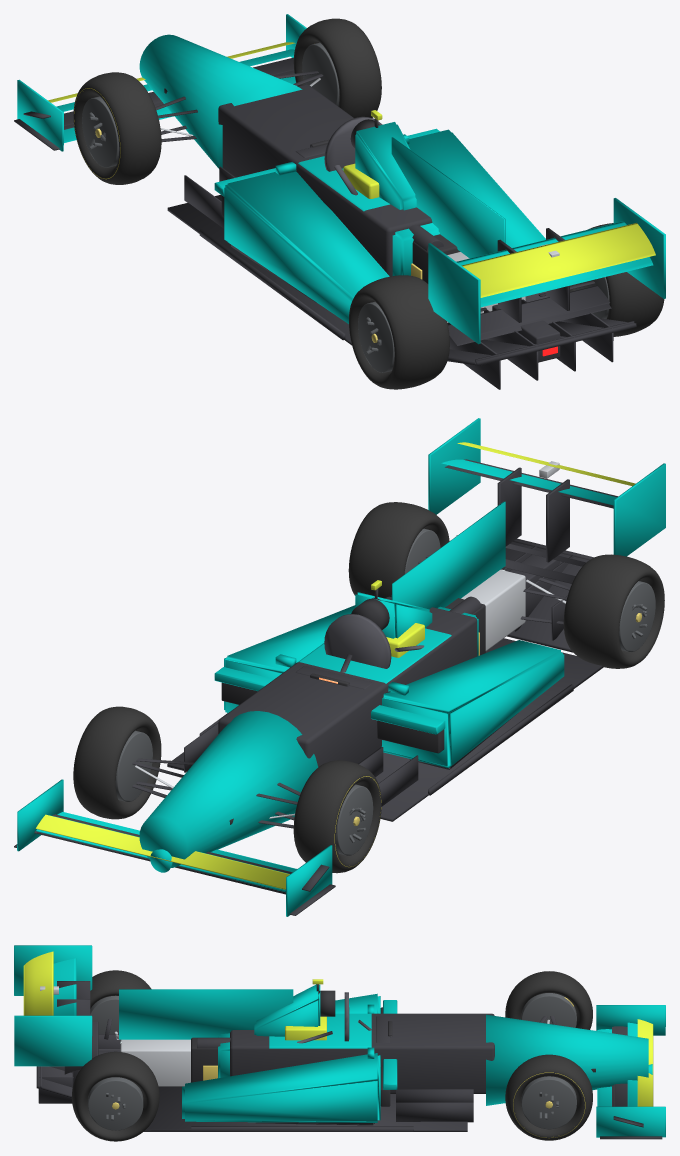
Rendered from Car_F1_Complete.glb.
The picture shows the model from 3 angles, top to bottom: view 1: azimuth 30°, elevation 25°; view 2: azimuth 150°, elevation 25°; view 3: azimuth 270°, elevation 25°; orthographic projection. The views are drawn at different scales.
Parts seen in each view (by area): view 1: F1_RearWing_CascadeDRS, F1_Sidepod_L_Downwash, F1_Monocoque_T800, F1_Monocoque_M55J, F1_Wheel_RL, F1_Nose_Wide, F1_Wheel_FL, F1_Wheel_FR, F1_Diffuser_QuadStrake, F1_Sidepod_R_Downwash, F1_FrontWing_Outwash4, F1_Floor_QuadFence (+5 smaller); view 2: F1_Nose_Wide, F1_Sidepod_L_Downwash, F1_RearWing_CascadeDRS, F1_Monocoque_T800, F1_Monocoque_M55J, F1_Wheel_RL, F1_FrontWing_Outwash4, F1_Wheel_FR, F1_Wheel_FL, F1_Floor_QuadFence, F1_Wheel_RR, F1_Sidepod_R_Downwash (+7 smaller); view 3: F1_Monocoque_T800, F1_Sidepod_R_Downwash, F1_Monocoque_M55J, F1_RearWing_CascadeDRS, F1_Nose_Wide, F1_Wheel_RR, F1_Wheel_FR, F1_FrontWing_Outwash4, F1_Floor_QuadFence, F1_Wheel_FL, F1_Gearbox_Carbon8, F1_Wheel_RL (+5 smaller).
Part boxes in pixels (left/top/right/bottom): F1_RearWing_CascadeDRS: left=428, top=198, right=665, bottom=345; F1_Sidepod_L_Downwash: left=214, top=168, right=389, bottom=323; F1_Monocoque_T800: left=275, top=110, right=505, bottom=275; F1_Monocoque_M55J: left=218, top=84, right=432, bottom=276; F1_Wheel_RL: left=349, top=275, right=449, bottom=389; F1_Nose_Wide: left=139, top=34, right=302, bottom=168; F1_Wheel_FL: left=73, top=72, right=161, bottom=184; F1_Wheel_FR: left=293, top=18, right=381, bottom=117; F1_Diffuser_QuadStrake: left=447, top=299, right=636, bottom=389; F1_Sidepod_R_Downwash: left=407, top=128, right=545, bottom=247; F1_FrontWing_Outwash4: left=14, top=14, right=306, bottom=151; F1_Floor_QuadFence: left=168, top=166, right=547, bottom=341; F1_Nose_Wide: left=139, top=711, right=318, bottom=867; F1_Sidepod_L_Downwash: left=371, top=640, right=564, bottom=769; F1_RearWing_CascadeDRS: left=428, top=418, right=665, bottom=583; F1_Monocoque_T800: left=275, top=501, right=505, bottom=695; F1_Monocoque_M55J: left=218, top=596, right=477, bottom=766; F1_Wheel_RL: left=563, top=554, right=664, bottom=668; F1_FrontWing_Outwash4: left=14, top=779, right=335, bottom=916; F1_Wheel_FR: left=73, top=706, right=161, bottom=819; F1_Wheel_FL: left=293, top=760, right=381, bottom=873; F1_Floor_QuadFence: left=167, top=638, right=601, bottom=821; F1_Wheel_RR: left=348, top=502, right=449, bottom=598; F1_Sidepod_R_Downwash: left=214, top=605, right=355, bottom=713; F1_Monocoque_T800: left=119, top=979, right=389, bottom=1078; F1_Sidepod_R_Downwash: left=182, top=1053, right=397, bottom=1125; F1_Monocoque_M55J: left=230, top=1013, right=494, bottom=1093; F1_RearWing_CascadeDRS: left=14, top=945, right=98, bottom=1085; F1_Nose_Wide: left=486, top=1014, right=648, bottom=1105; F1_Wheel_RR: left=71, top=1051, right=159, bottom=1141; F1_Wheel_FR: left=505, top=1054, right=592, bottom=1140; F1_FrontWing_Outwash4: left=596, top=1005, right=665, bottom=1139; F1_Floor_QuadFence: left=143, top=1086, right=473, bottom=1131; F1_Wheel_FL: left=505, top=971, right=592, bottom=1029; F1_Gearbox_Carbon8: left=98, top=1039, right=190, bottom=1086; F1_Wheel_RL: left=90, top=970, right=151, bottom=1034.
Size of the model in its own units: 2.13 by 1.12 by 5.42.
